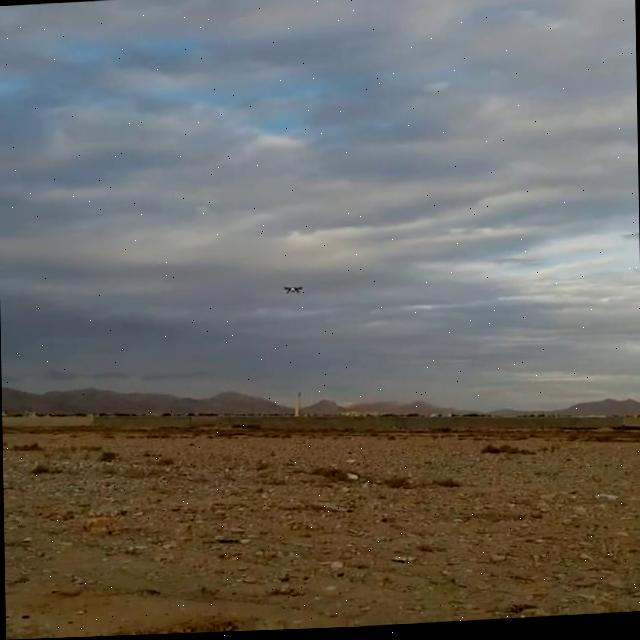drone: (279, 285, 306, 298)
